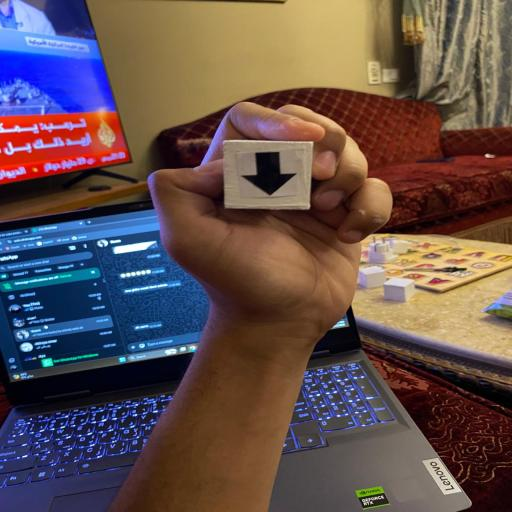Down: (221, 139, 315, 211)
